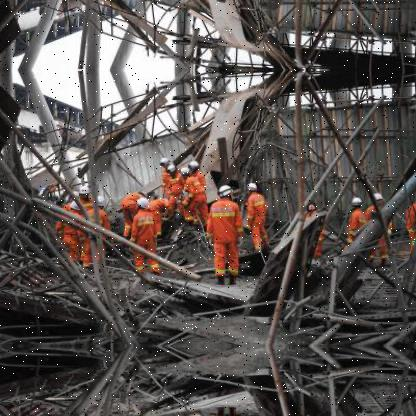helmet: (220, 181, 234, 200), (95, 190, 107, 210), (79, 179, 90, 199), (373, 187, 385, 205), (136, 196, 150, 211), (190, 156, 202, 172), (159, 152, 172, 166), (352, 194, 364, 209), (248, 178, 259, 194), (182, 164, 192, 179)
